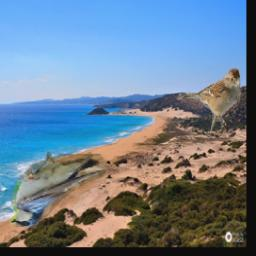Sparrow: (178, 66, 243, 134)
Swallow: (11, 151, 108, 228)
